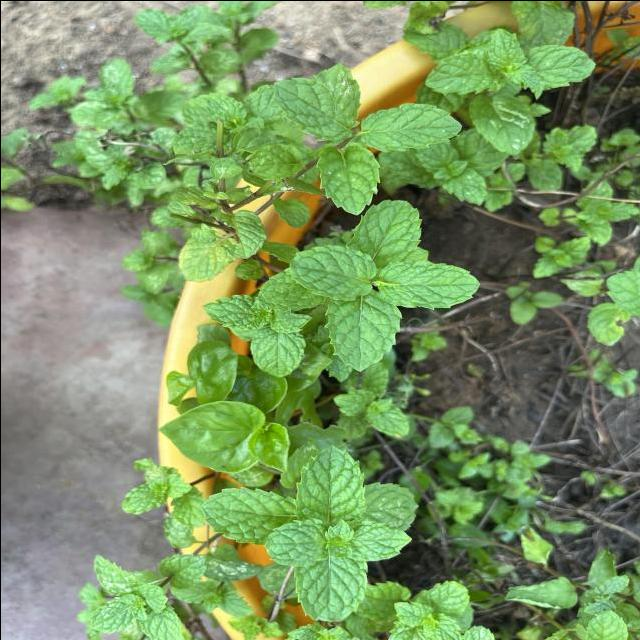Mentha spicata: (323, 293, 403, 372), (292, 442, 368, 524), (270, 76, 360, 144), (198, 485, 294, 546), (376, 258, 480, 310), (359, 100, 463, 152), (288, 242, 377, 302), (292, 557, 368, 622), (315, 143, 380, 215)
